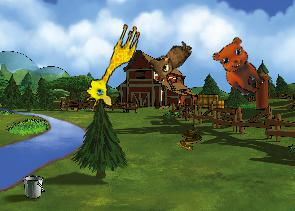bear: (206, 32, 276, 101)
giraffe: (81, 17, 143, 112)
owl: (143, 31, 194, 85)
